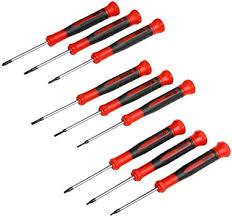screwdriver: (85, 128, 207, 204), (62, 118, 185, 193), (109, 140, 230, 215), (75, 78, 196, 147), (52, 69, 173, 137), (23, 7, 143, 74), (45, 17, 165, 84), (30, 58, 151, 124), (0, 0, 120, 65)
